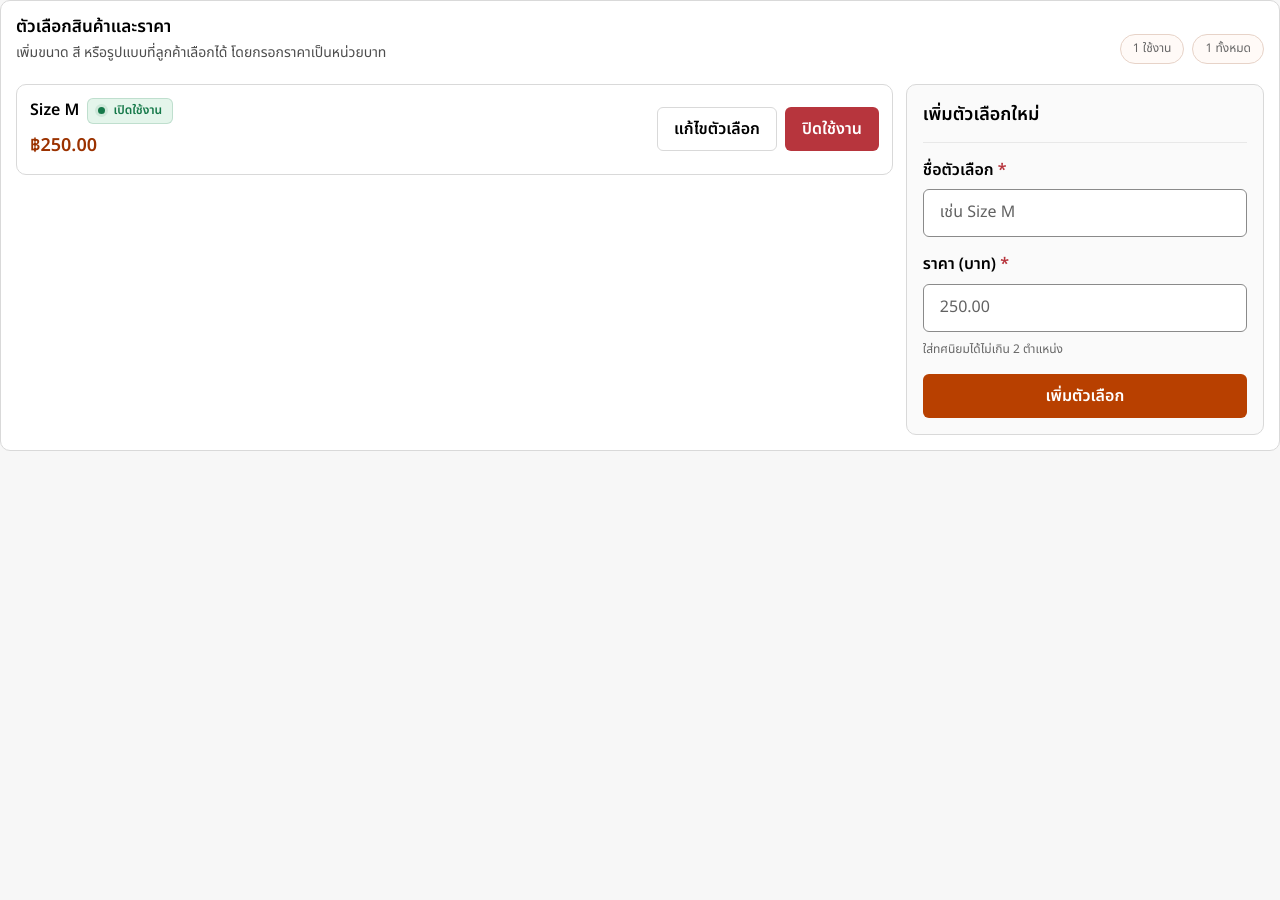
VariantManagement › edits Variant name and THB price through integer satang API payload
Click the button "แก้ไขตัวเลือก" at (717, 129), box [657,107,777,151]
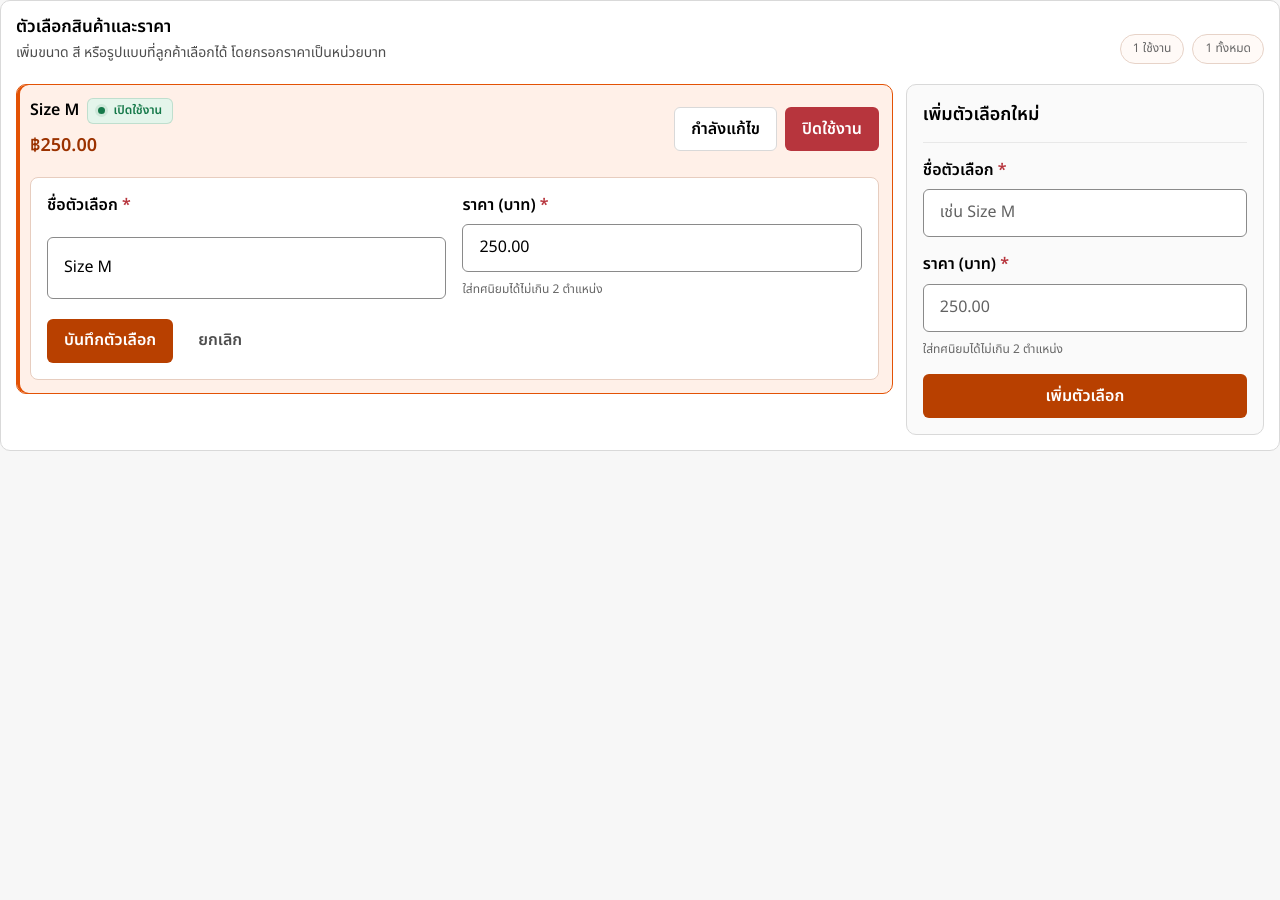
Replace the text in the field showing "Size M" below "฿250.00" with "Size XL" at (247, 268), box [47,237,446,299]
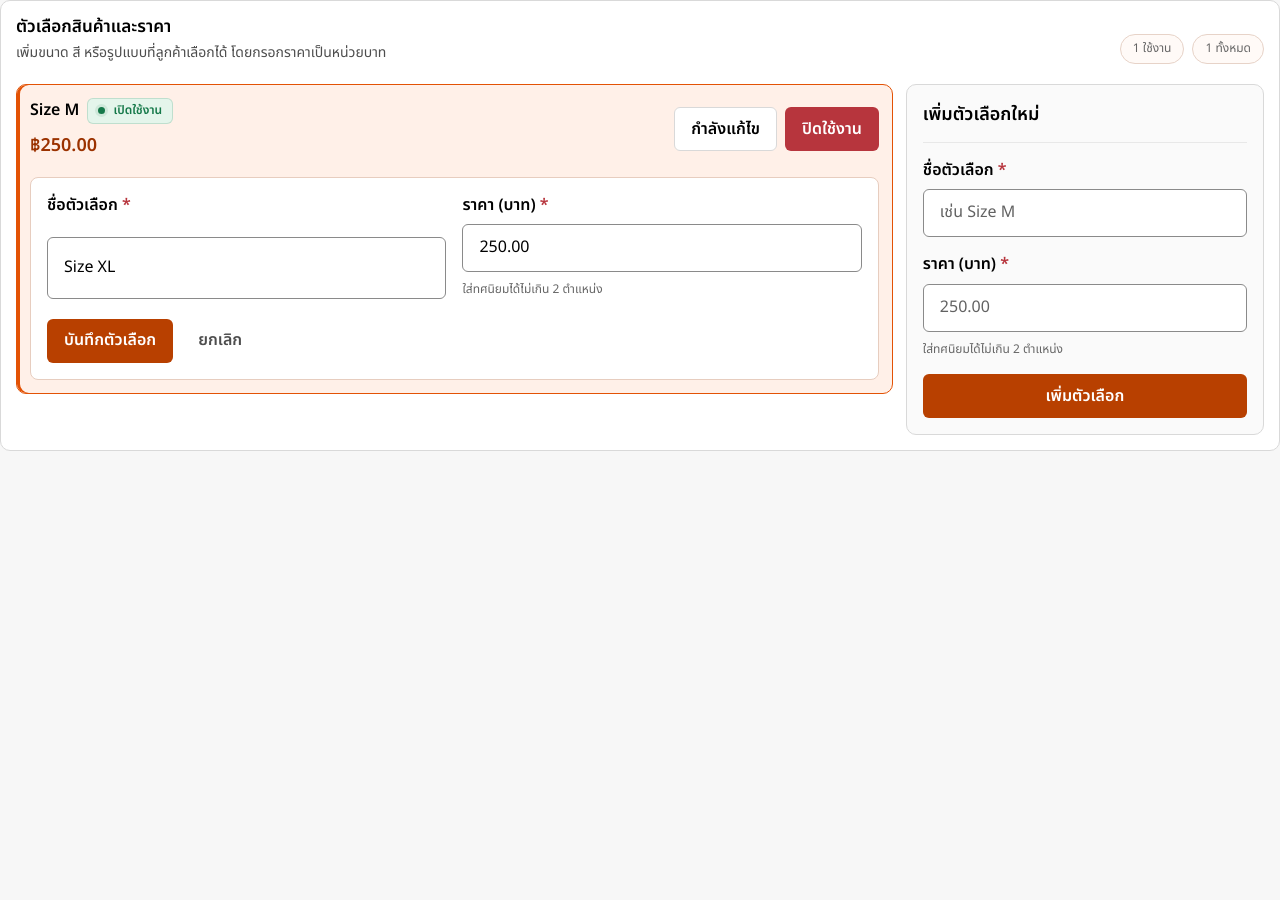
Replace the text in the 1st field showing "250.00" with "270.50" at (662, 248), box [462,224,862,272]
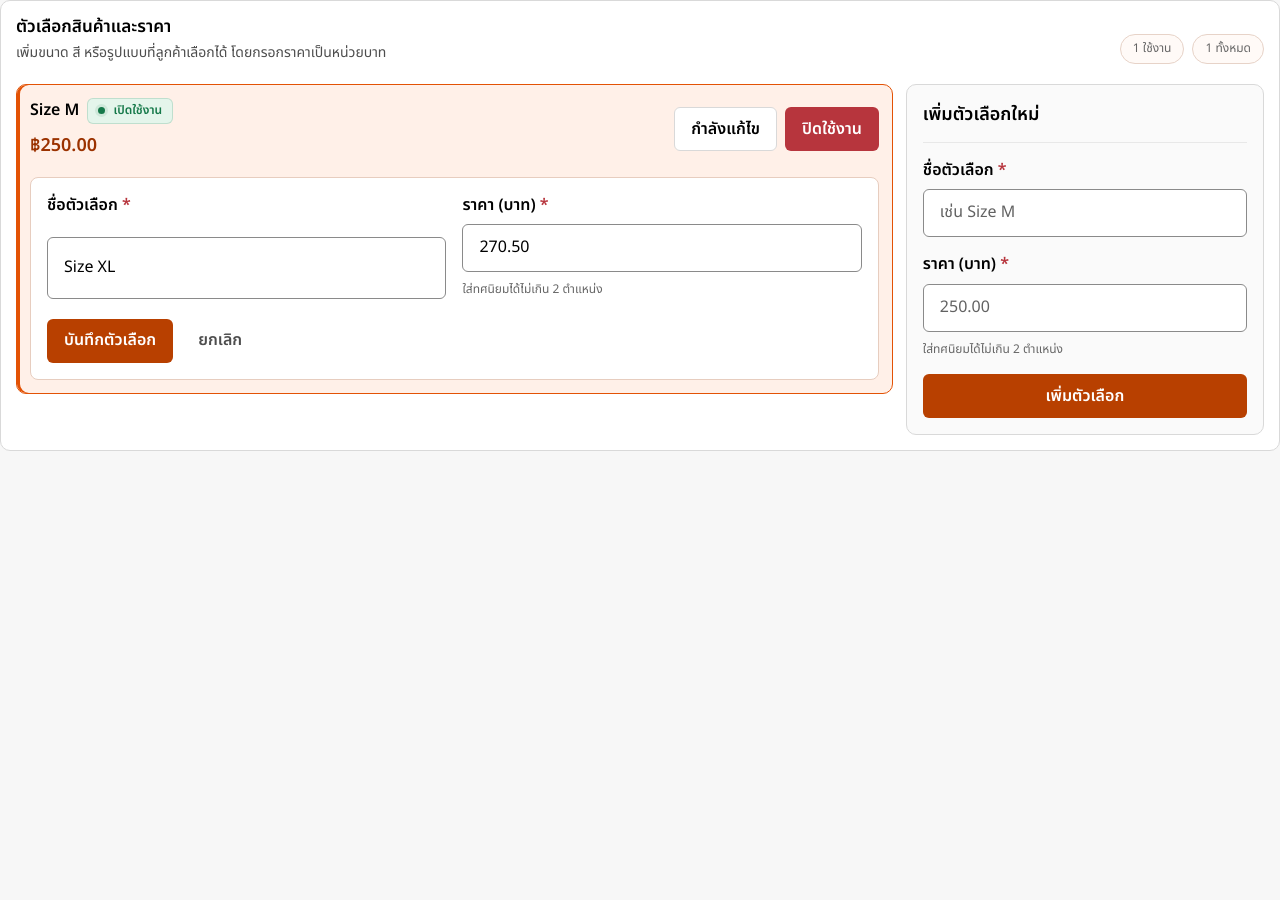
Click the button "บันทึกตัวเลือก" at (110, 341), box [47,319,173,363]
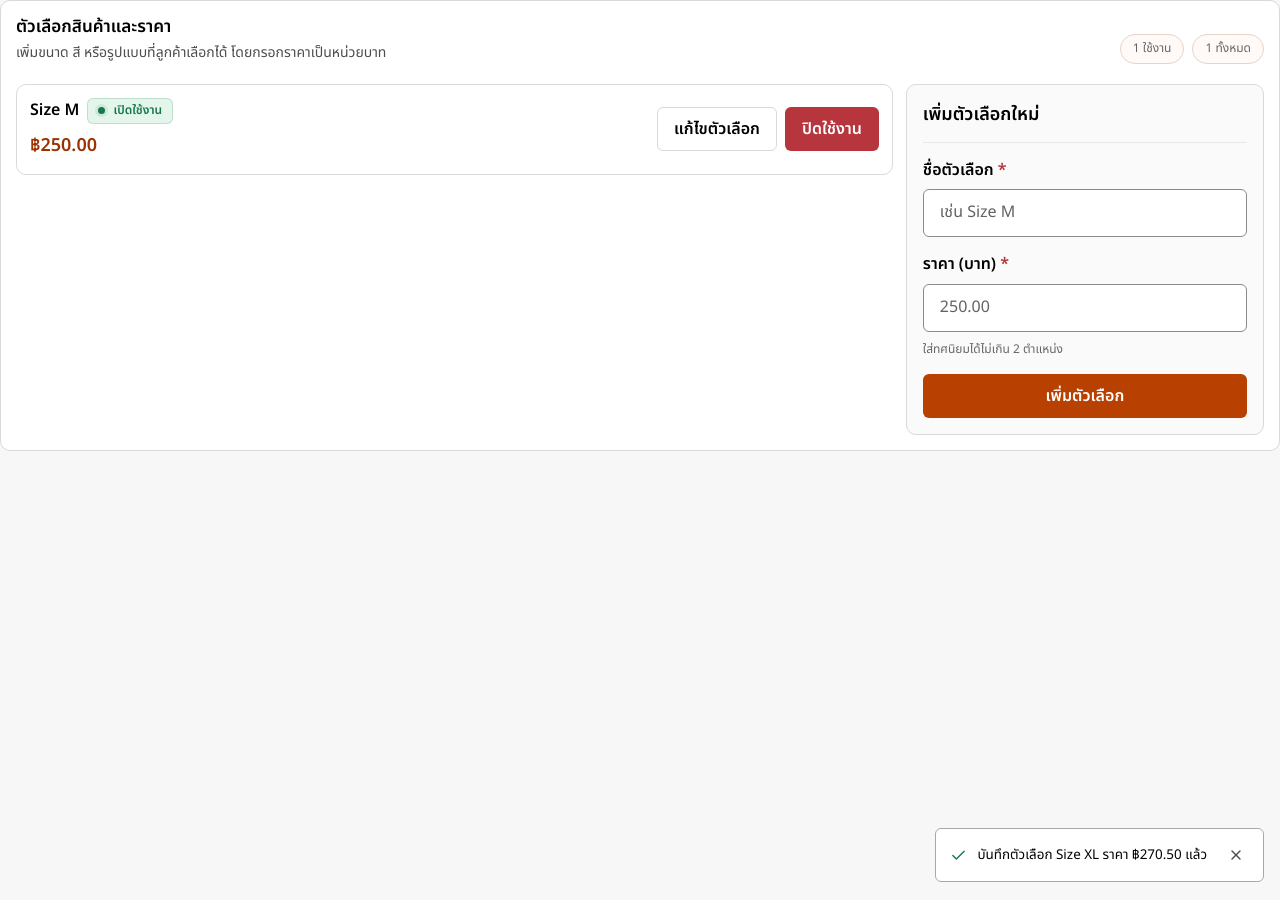
Expected: the text "บันทึกตัวเลือก Size XL ราคา ฿270.50 แล้ว" is shown, [978,845,1207,865]
